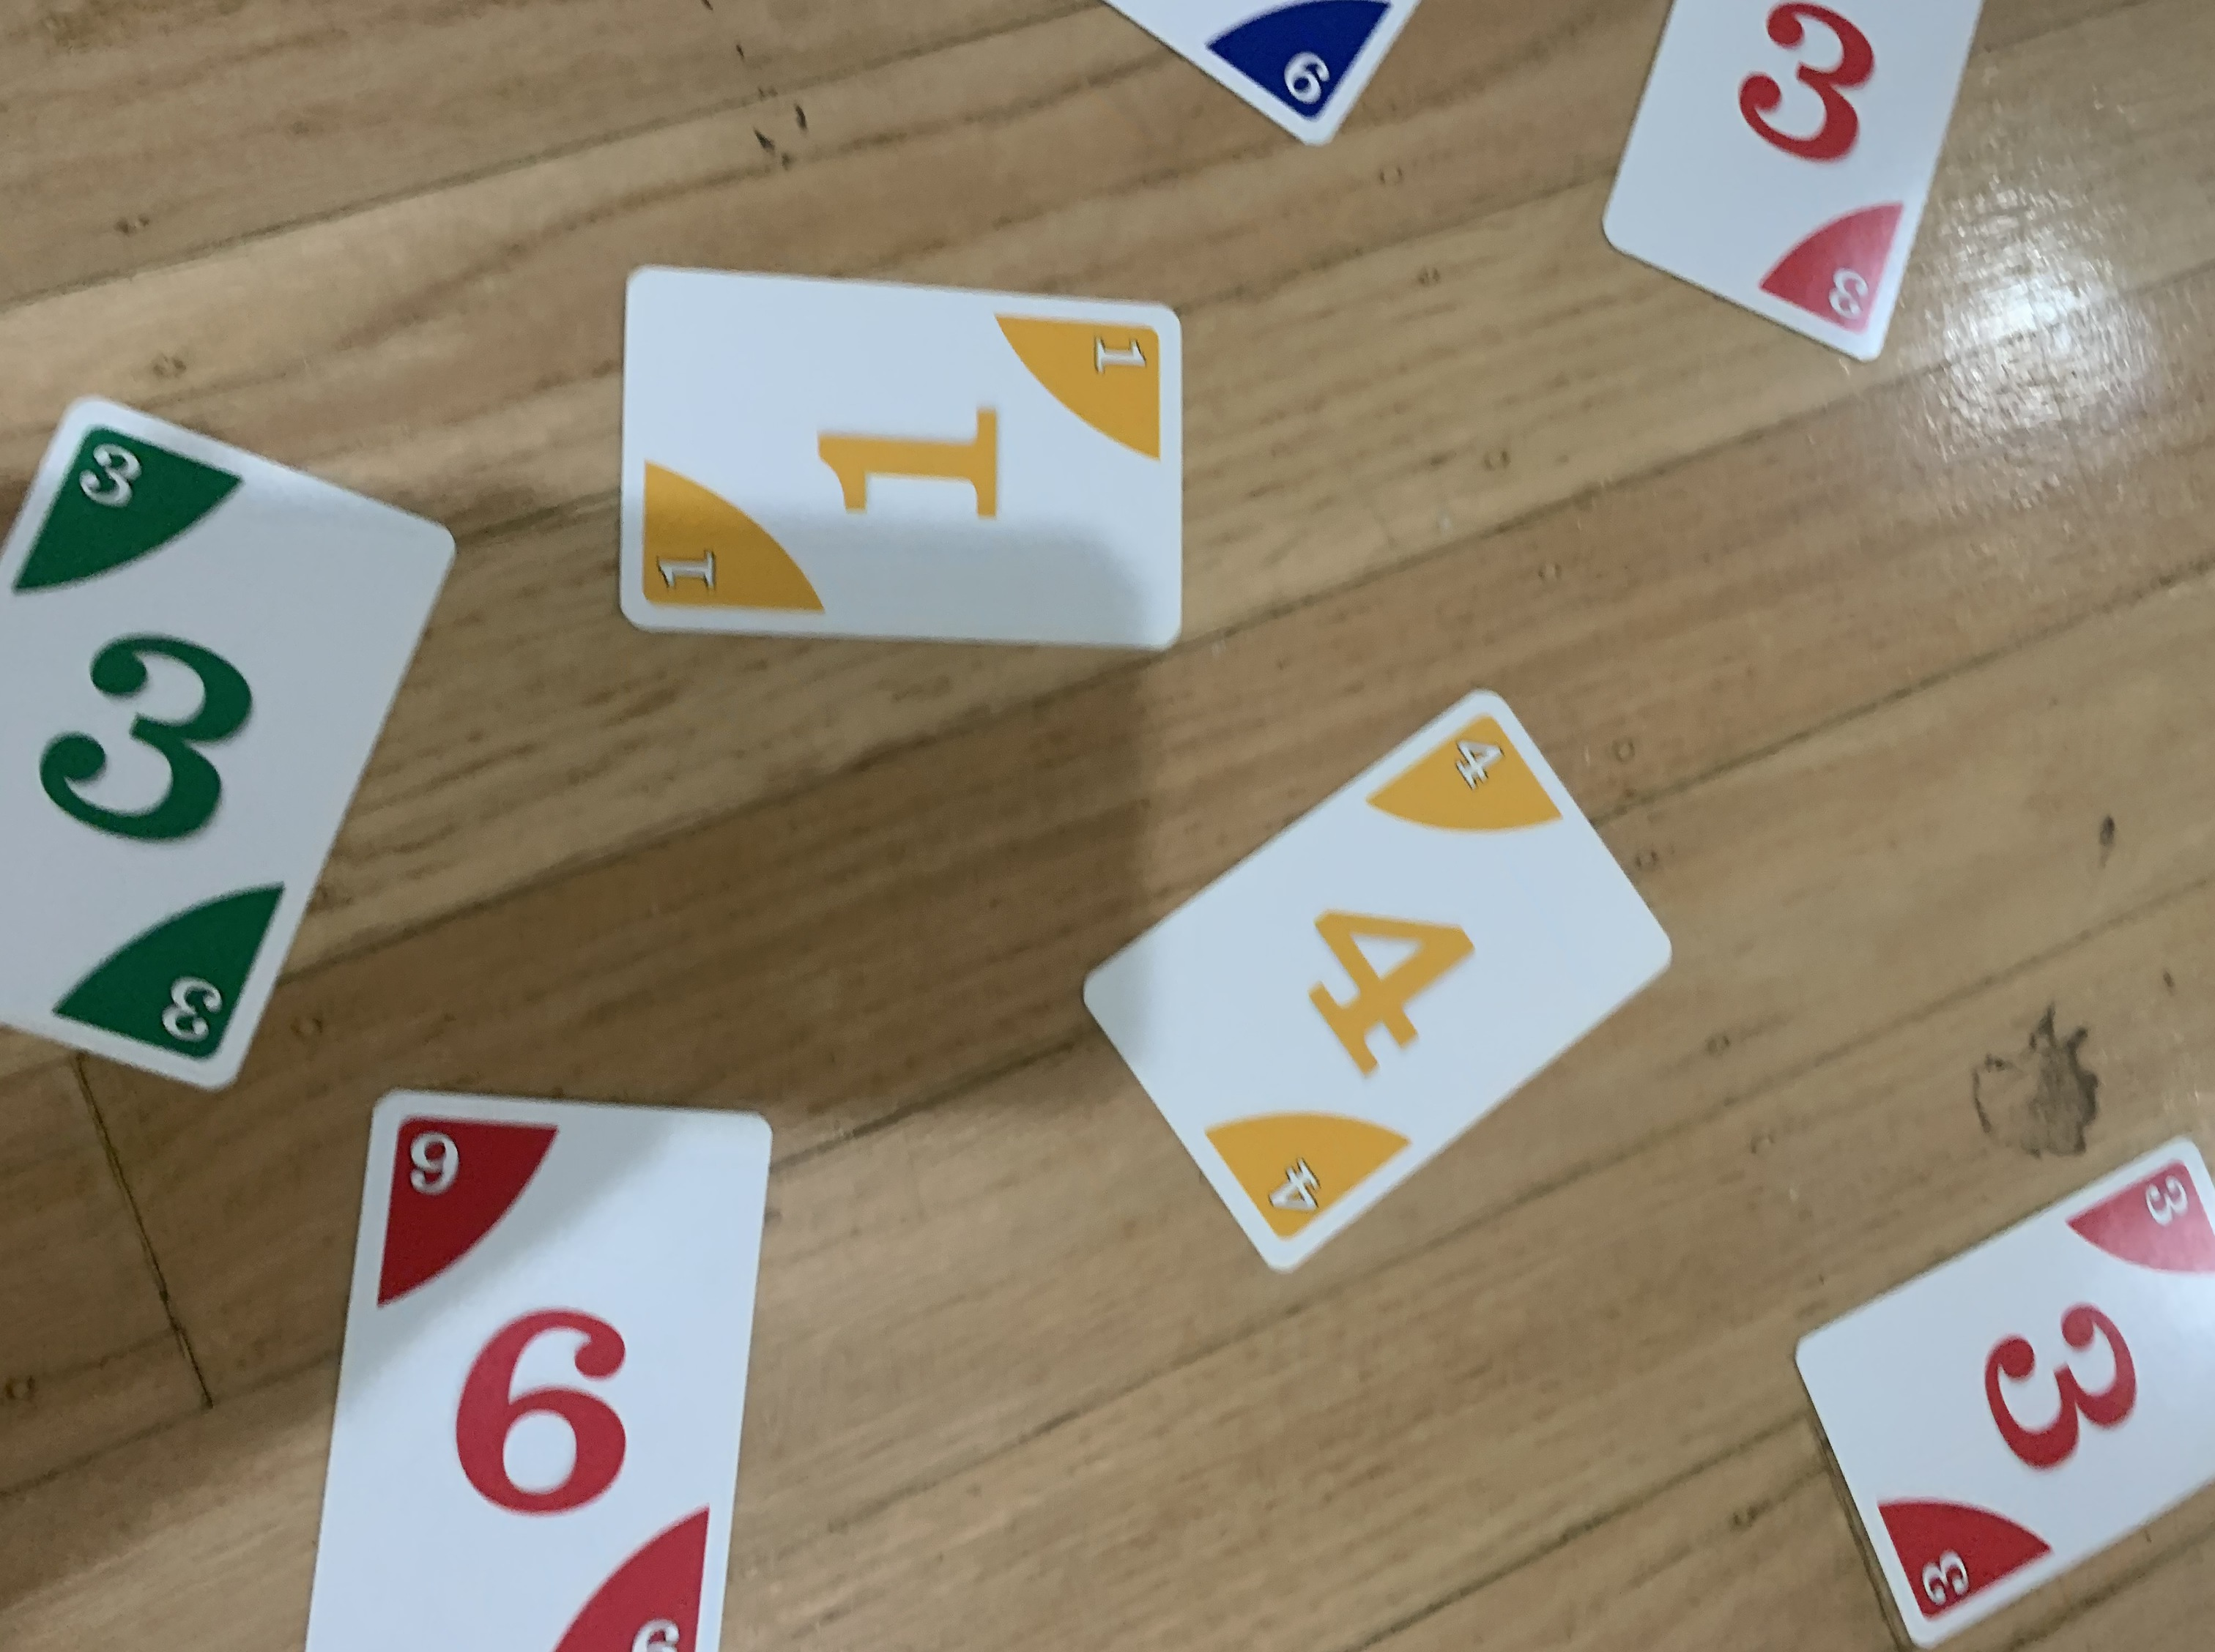four: (1075, 680, 1675, 1281)
one: (608, 239, 1200, 665)
six: (299, 1076, 799, 1649)
three: (0, 382, 463, 1105), (1786, 1118, 2215, 1647), (1614, 0, 2000, 356)
